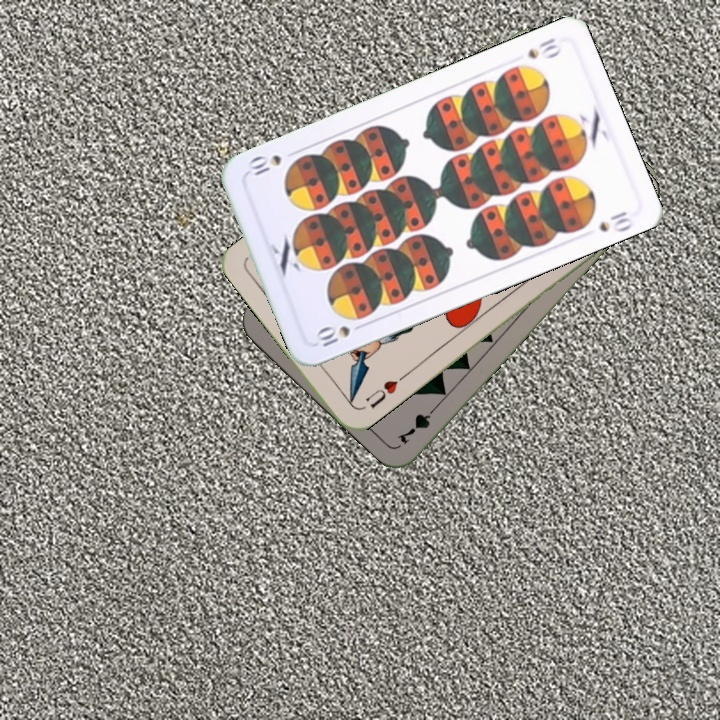G7: (393, 399, 442, 447)
HU: (361, 371, 408, 411)
S10: (312, 319, 369, 350), (523, 34, 564, 62)
